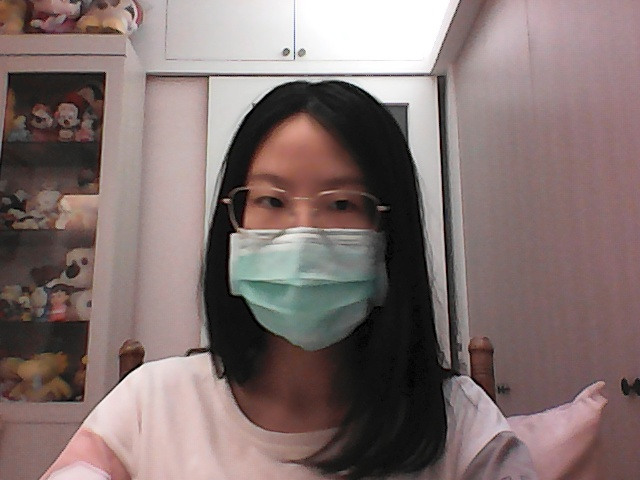Mask: (215, 202, 406, 370)
